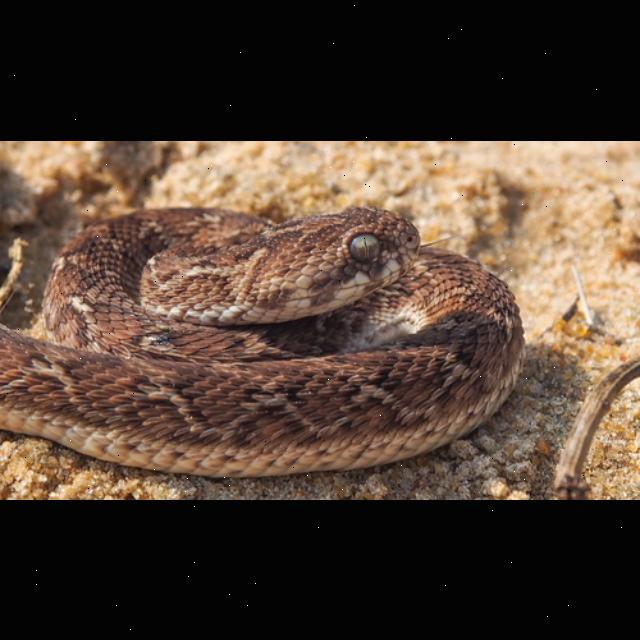snake: (2, 202, 526, 474)
